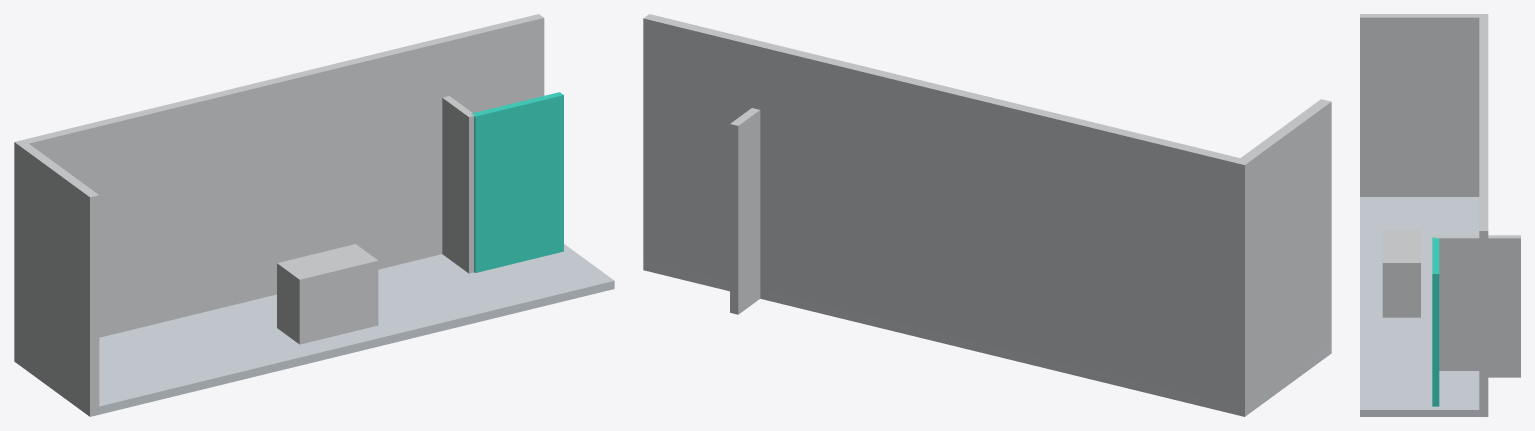
3 renders of one model, left to right at view 1: azimuth 30°, elevation 25°; view 2: azimuth 150°, elevation 25°; view 3: azimuth 270°, elevation 25°, orthographic. The views are drawn at different scales.
Visible parts, largest first — view 1: Exhibition Booth Concept; view 2: Exhibition Booth Concept; view 3: Exhibition Booth Concept.
Part boxes in pixels (x1=…): Exhibition Booth Concept: x1=14, y1=14, x2=614, y2=416; Exhibition Booth Concept: x1=643, y1=14, x2=1331, y2=416; Exhibition Booth Concept: x1=1360, y1=14, x2=1520, y2=416.
Bounding box in the file's own units: 8 × 3.2 × 2.5.
